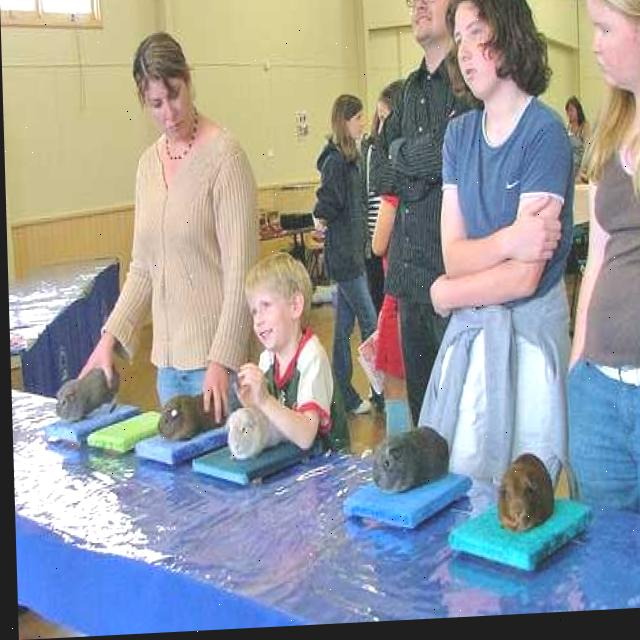guinea pig: (367, 430, 454, 498), (494, 461, 556, 539), (225, 408, 293, 459), (52, 373, 120, 418), (157, 400, 212, 437)
